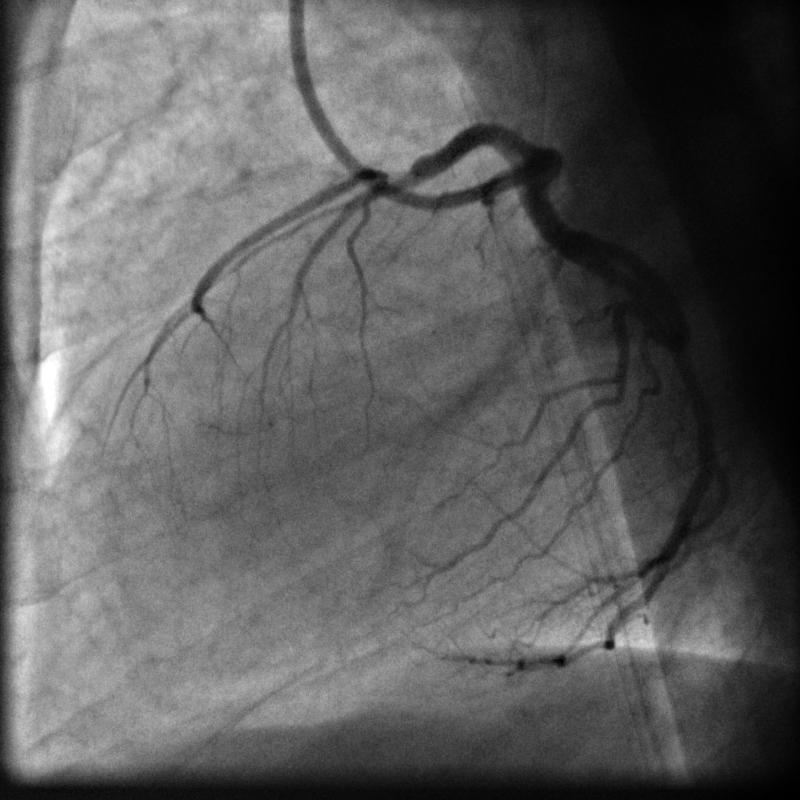Stenosis: (368, 157, 423, 206)
